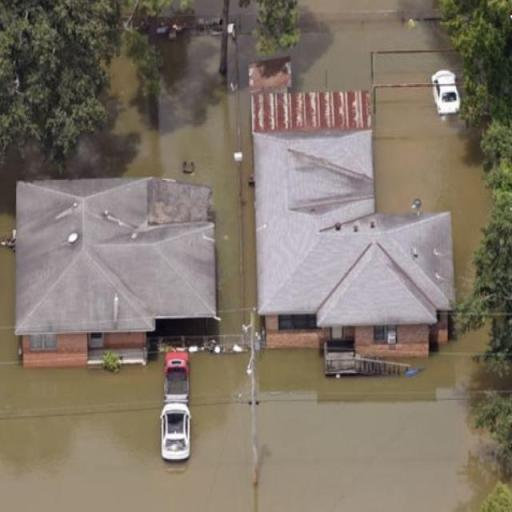flood: (0, 32, 242, 335), (0, 249, 252, 512), (259, 333, 495, 512), (374, 86, 490, 297), (291, 0, 442, 90), (374, 53, 457, 83), (230, 0, 257, 21), (194, 0, 223, 17)
house: (18, 166, 224, 356), (270, 198, 461, 377), (158, 338, 198, 464)
